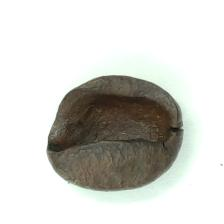NG: (44, 87, 177, 162)
